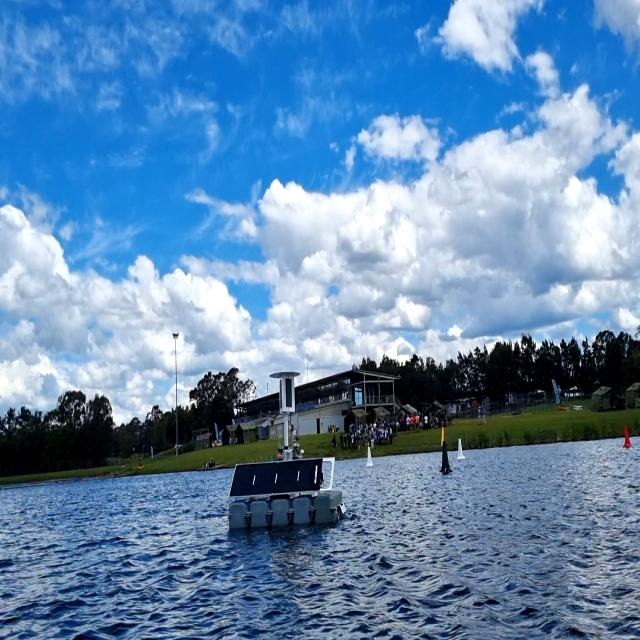led: (284, 376, 294, 410), (279, 380, 283, 410)
